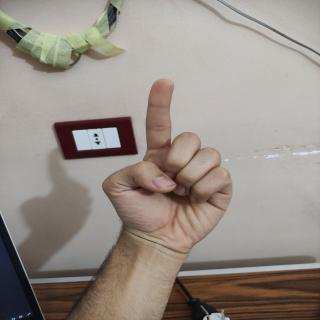BAA: (98, 75, 236, 256)
